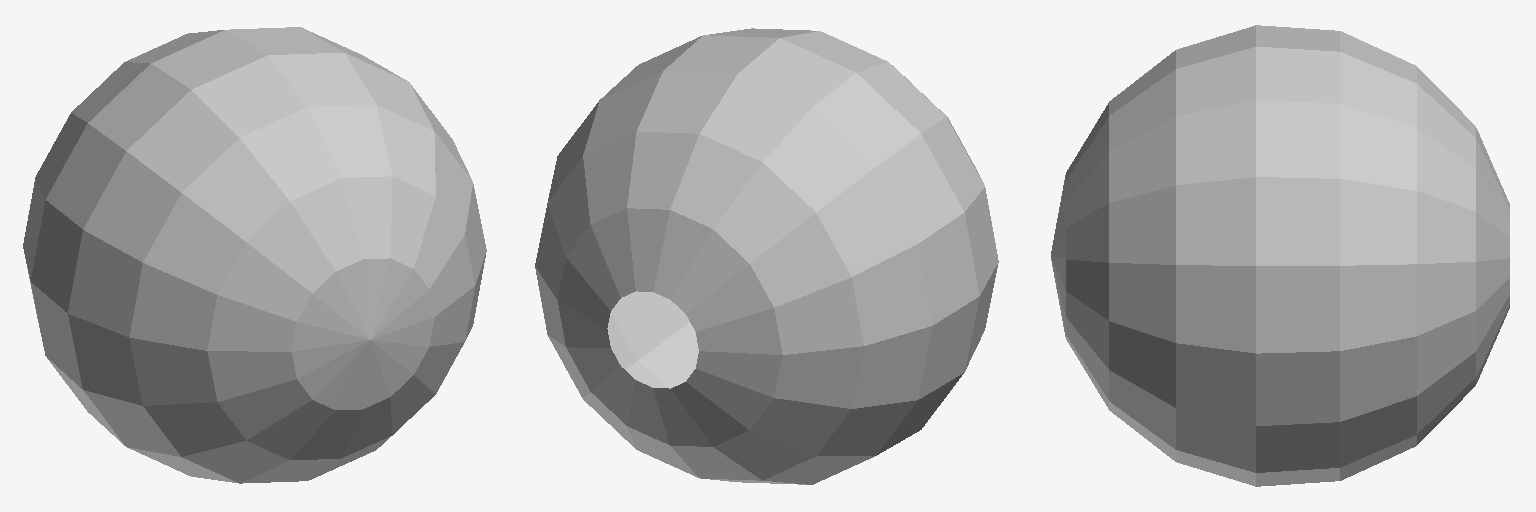
Rendered from lamp.obj.
3 renders of one model, left to right at view 1: azimuth 30°, elevation 25°; view 2: azimuth 150°, elevation 25°; view 3: azimuth 270°, elevation 25°, orthographic.
Size of the model in its own units: 0.2183 by 0.2183 by 0.2169.